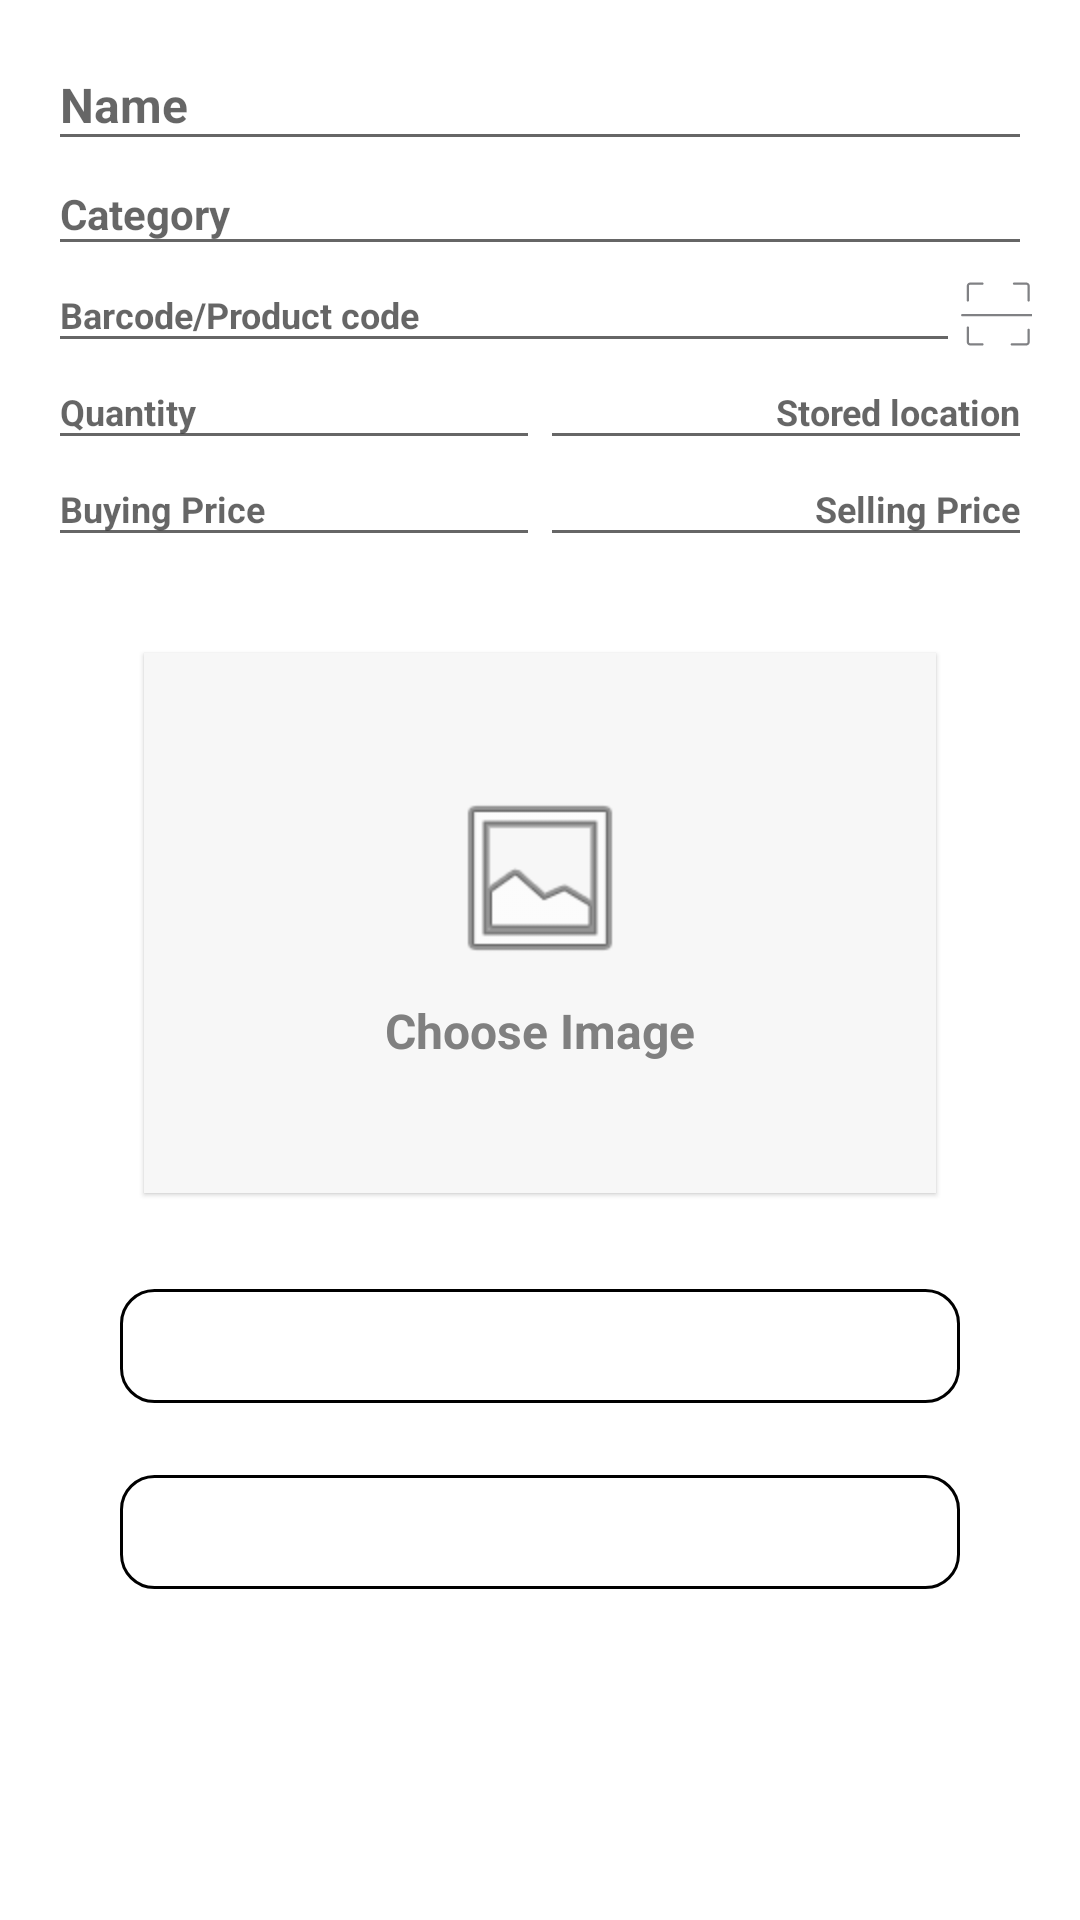

Icon click points for this 1080 × 1920 phone screenshot, format point (x, y):
gallery: point (540, 878)
